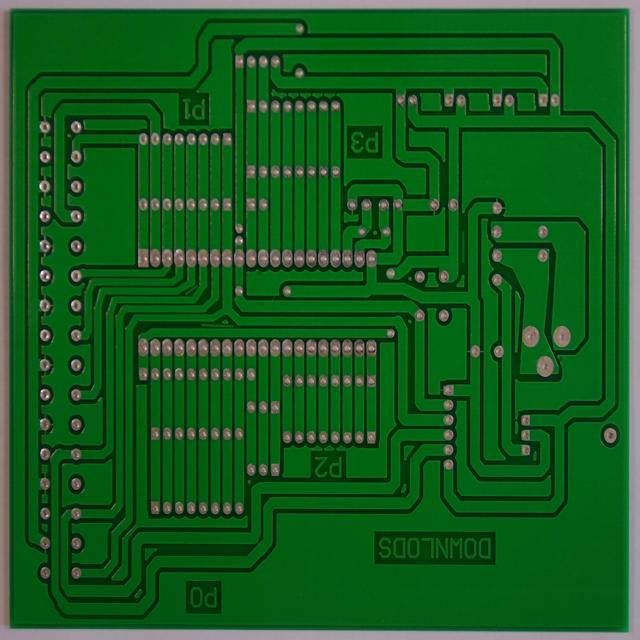spurious_copper: (200, 319, 235, 331), (458, 226, 468, 267), (183, 283, 198, 295)
